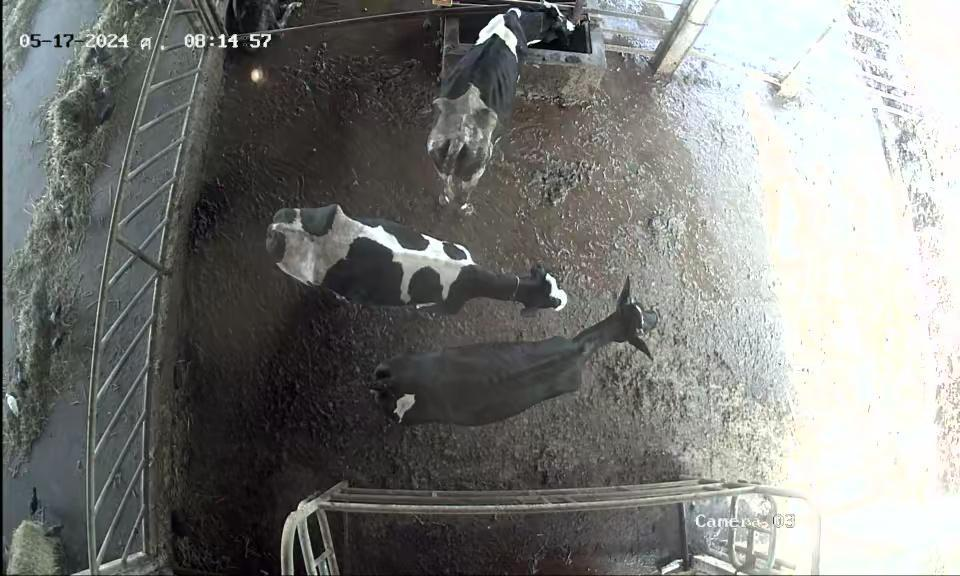drink: (487, 0, 607, 108)
stand: (337, 273, 693, 430), (260, 189, 570, 337)
